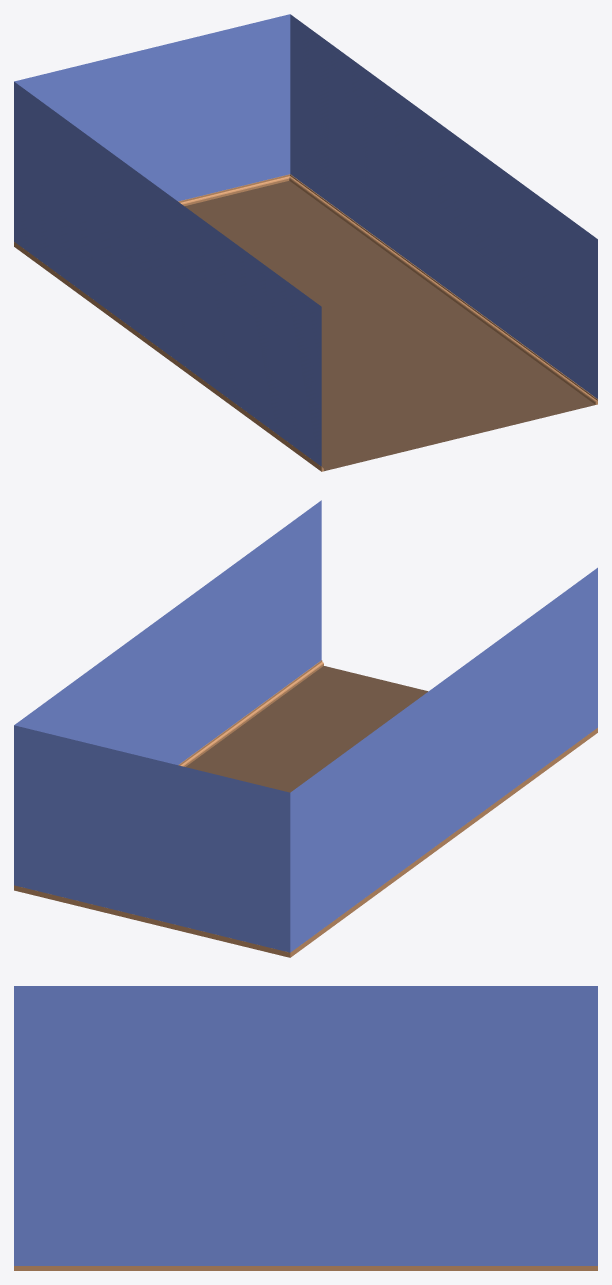
File: Closet.fbx
3 renders of one model, top to bottom at view 1: azimuth 30°, elevation 25°; view 2: azimuth 150°, elevation 25°; view 3: azimuth 270°, elevation 25°, orthographic. The views are drawn at different scales.
Parts seen in each view (by area): view 1: Closet, Closet Trimming; view 2: Closet, Closet Trimming; view 3: Closet, Closet Trimming.
Part boxes in pixels (<box>): Closet: <box>14,14,597,471</box>; Closet Trimming: <box>14,174,597,471</box>; Closet: <box>14,500,597,952</box>; Closet Trimming: <box>14,660,597,957</box>; Closet: <box>14,986,597,1265</box>; Closet Trimming: <box>14,1266,597,1270</box>.
Size of the model in its own units: 1050 by 600 by 2026.
